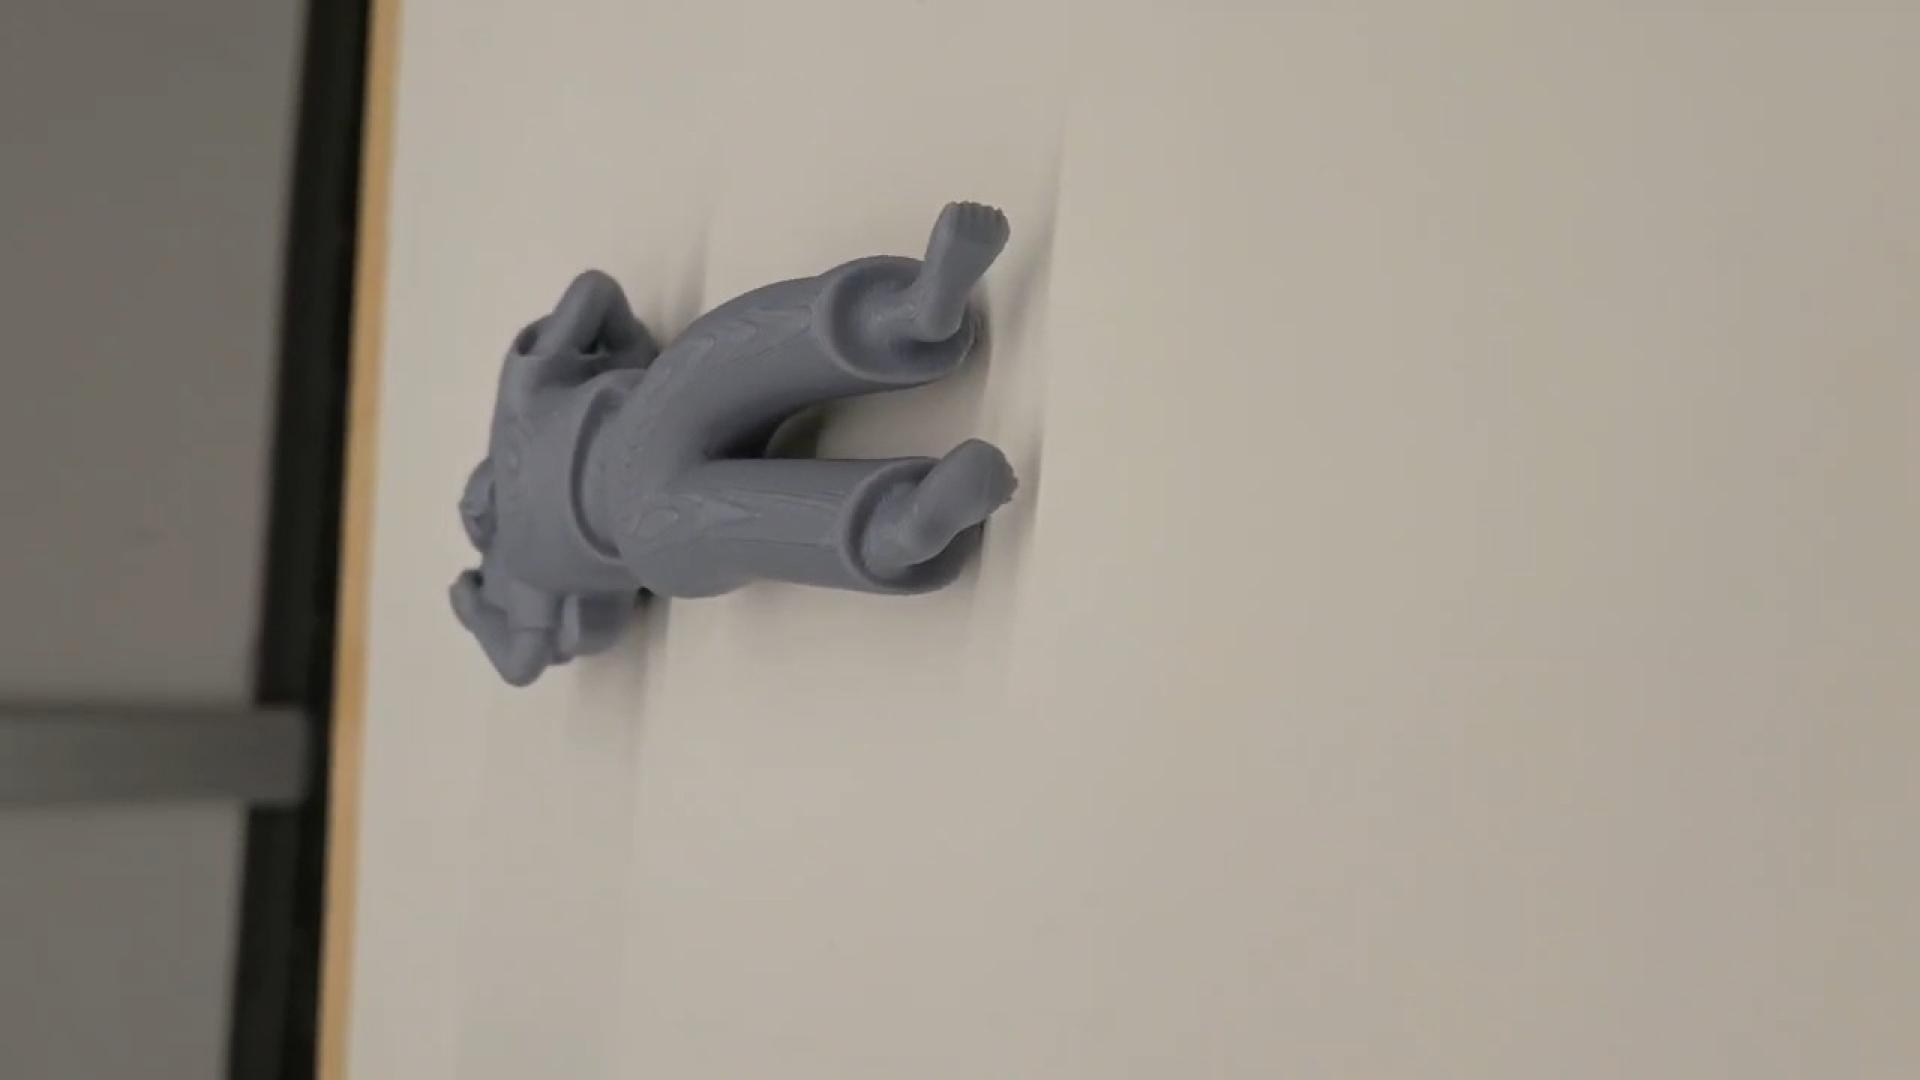Bad-style: (451, 206, 1021, 691)
